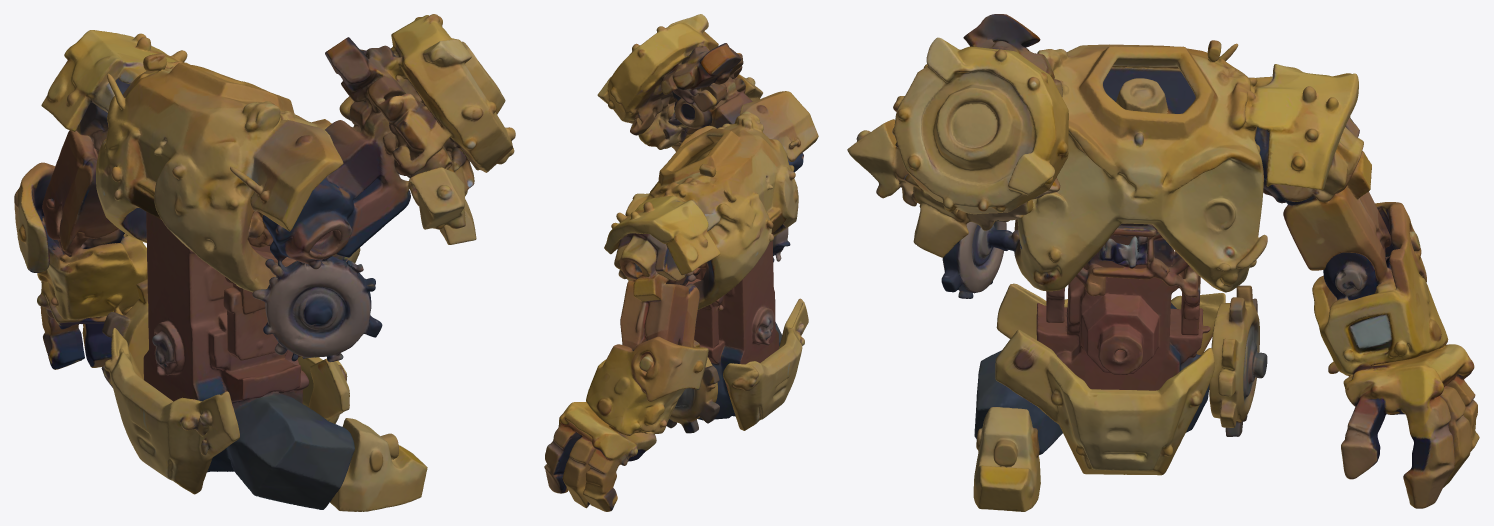
Rendered from landmark_workshop.glb.
3 views of the same model, side by side, from view 1: azimuth 30°, elevation 25°; view 2: azimuth 150°, elevation 25°; view 3: azimuth 270°, elevation 25° (orthographic). The views are drawn at different scales.
Parts seen in each view (by area): view 1: tripo_node_1b54e41a-a9ec-4bca-aebe-d1069365c3c8; view 2: tripo_node_1b54e41a-a9ec-4bca-aebe-d1069365c3c8; view 3: tripo_node_1b54e41a-a9ec-4bca-aebe-d1069365c3c8.
Boxes of the visible parts, x1=… form: tripo_node_1b54e41a-a9ec-4bca-aebe-d1069365c3c8: x1=14, y1=14, x2=515, y2=511; tripo_node_1b54e41a-a9ec-4bca-aebe-d1069365c3c8: x1=544, y1=14, x2=818, y2=511; tripo_node_1b54e41a-a9ec-4bca-aebe-d1069365c3c8: x1=847, y1=14, x2=1479, y2=511.
Bounding box in the file's own units: 0.5631 × 0.8556 × 1.
Materials: 1 (1 with a texture image).
